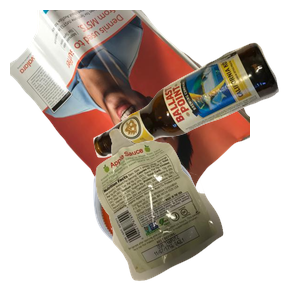glass: (91, 40, 300, 190)
paper: (10, 10, 250, 190)
plastic: (91, 152, 281, 300)
trash: (93, 126, 300, 300)
